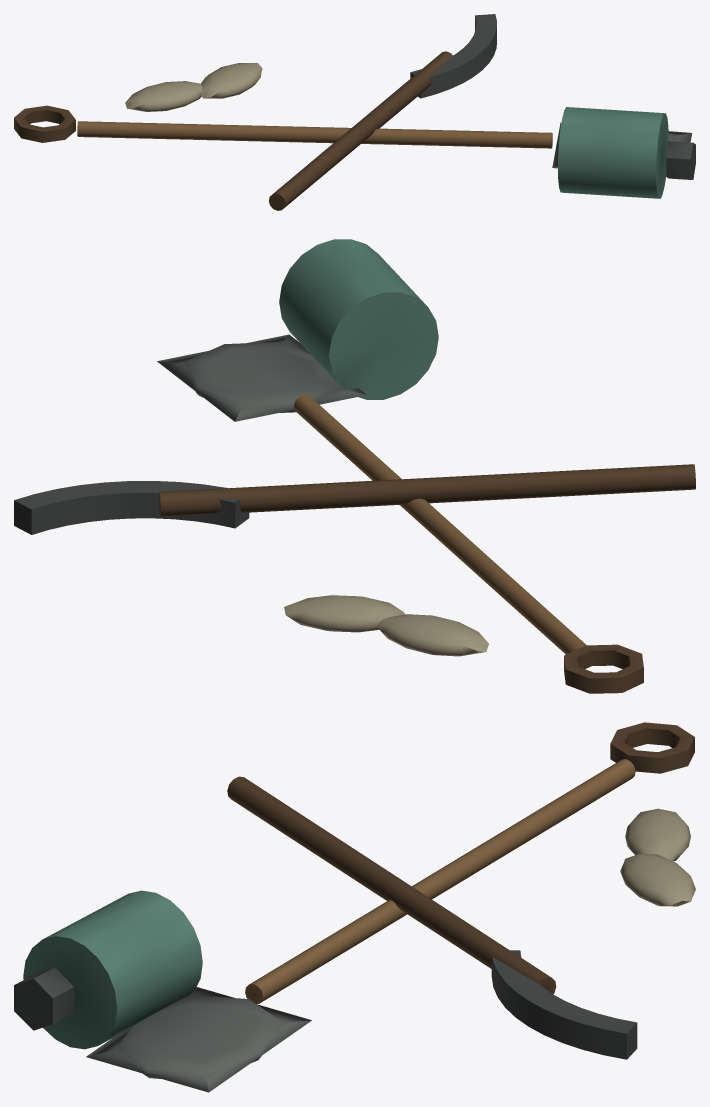
The model's file is tool_drop_b.glb.
3 renders of one model, top to bottom at view 1: azimuth 30°, elevation 25°; view 2: azimuth 150°, elevation 25°; view 3: azimuth 270°, elevation 25°, orthographic. The views are drawn at different scales.
Parts seen in each view (by area): view 1: Surface; view 2: Surface; view 3: Surface.
Boxes of the visible parts, bbox=[...] form: Surface: bbox=[14, 14, 695, 210]; Surface: bbox=[14, 239, 695, 693]; Surface: bbox=[14, 722, 695, 1092].
Size of the model in its own units: 1.43 by 0.2095 by 1.19.
